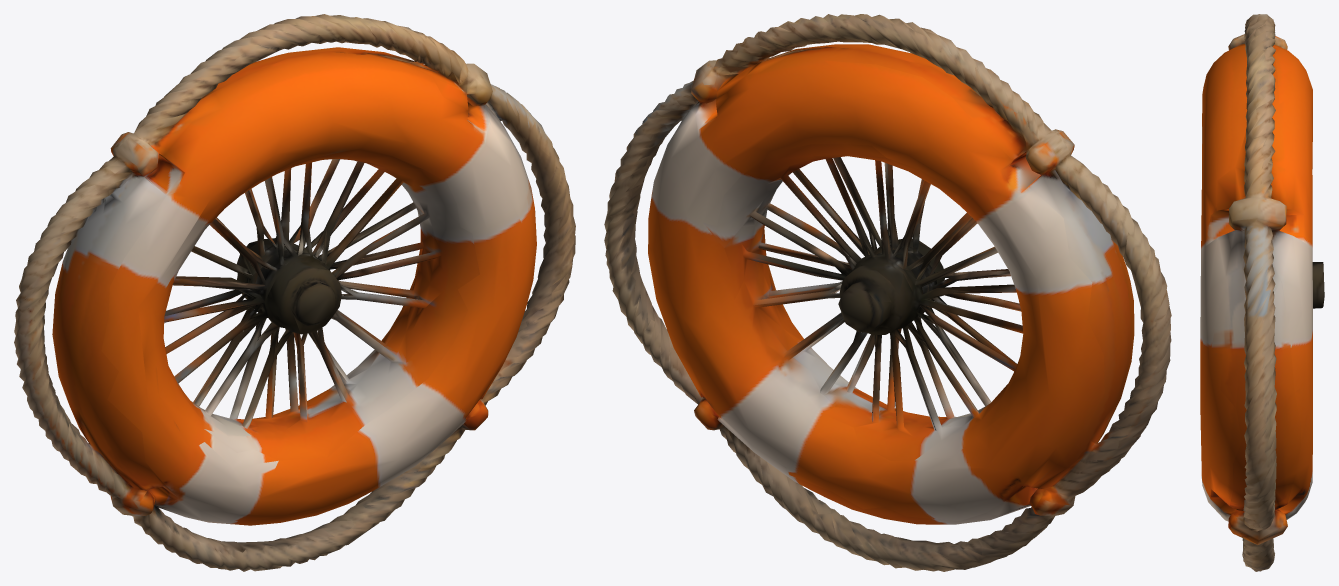
The model's file is sos_wheel.fbx.
3 views of the same model, side by side, from view 1: azimuth 30°, elevation 25°; view 2: azimuth 150°, elevation 25°; view 3: azimuth 270°, elevation 25° (orthographic). The views are drawn at different scales.
Parts seen in each view (by area): view 1: node_0.002; view 2: node_0.002; view 3: node_0.002.
Part boxes in pixels (x1,y1,x2,y2): node_0.002: (14, 14, 575, 571); node_0.002: (604, 14, 1171, 571); node_0.002: (1200, 14, 1324, 571).
Size of the model in its own units: 51.18 by 47.59 by 10.3.
1 material, 1 textured.
